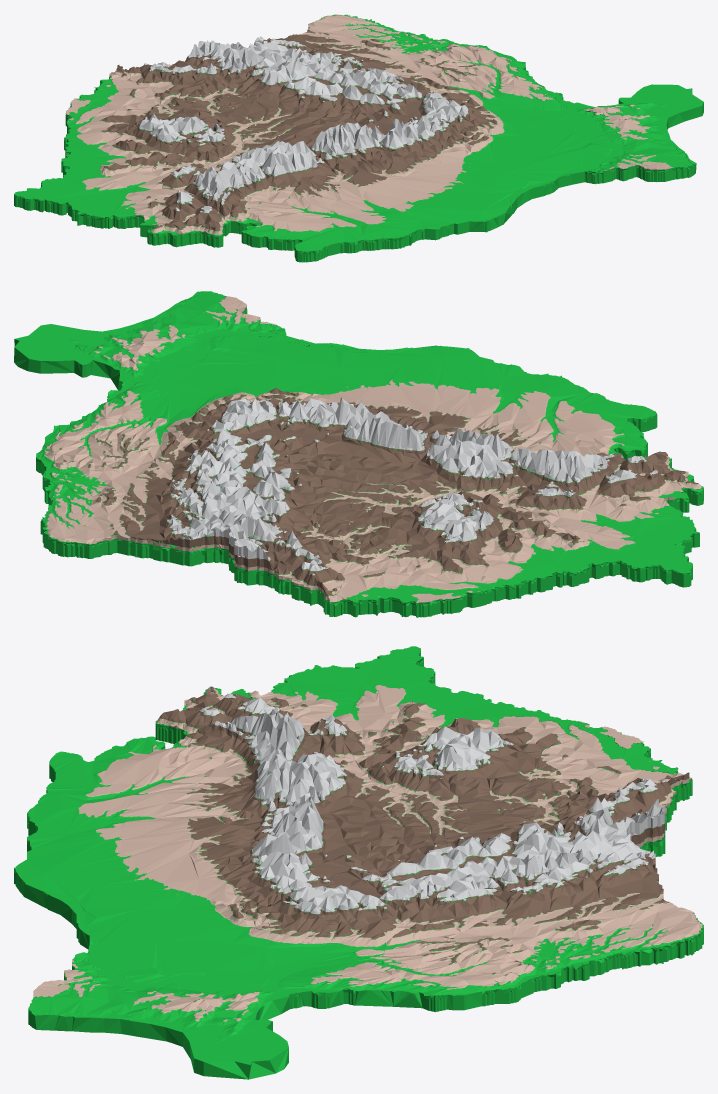
The model's file is romania-mobile.glb.
The picture shows the model from 3 angles, top to bottom: view 1: azimuth 30°, elevation 25°; view 2: azimuth 150°, elevation 25°; view 3: azimuth 270°, elevation 25°; orthographic projection. The views are drawn at different scales.
Parts seen in each view (by area): view 1: Node4; view 2: Node4; view 3: Node4.
Part boxes in pixels (<box>): Node4: <box>14,14,703,262</box>; Node4: <box>14,291,703,617</box>; Node4: <box>14,646,703,1079</box>.
Size of the model in its own units: 0.2496 by 0.0155 by 0.1744.
